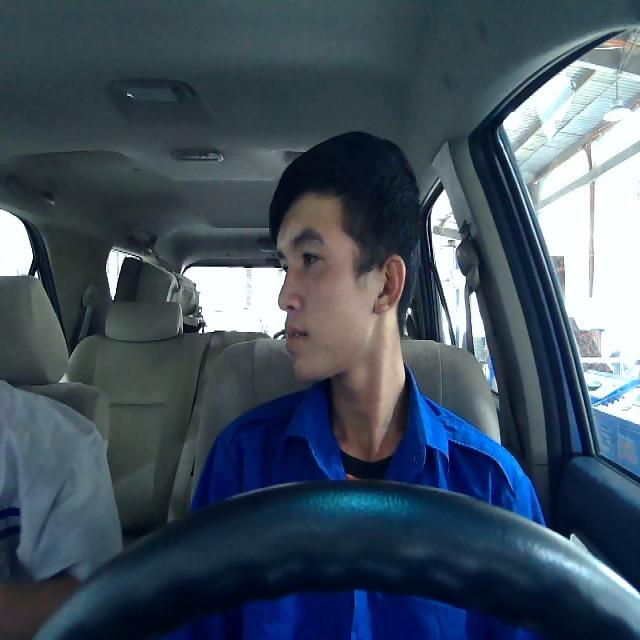seeing_left: (274, 184, 405, 381)
